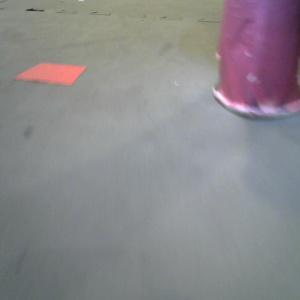right: (212, 1, 300, 119)
